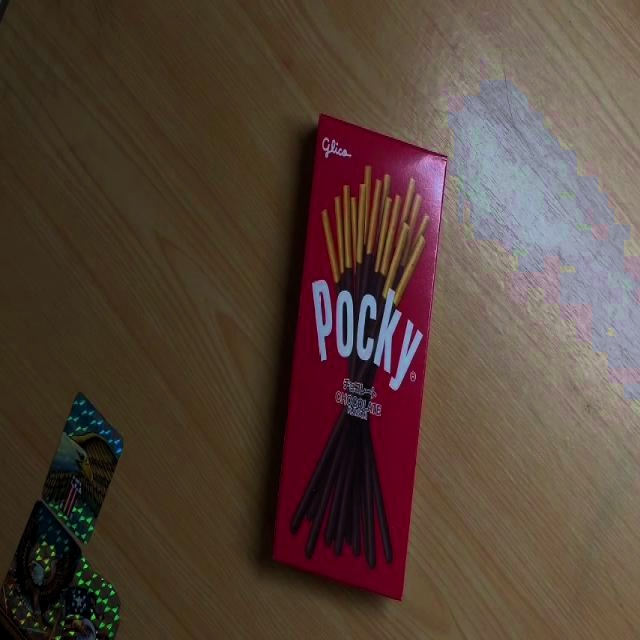Pocky: (270, 111, 449, 603)
